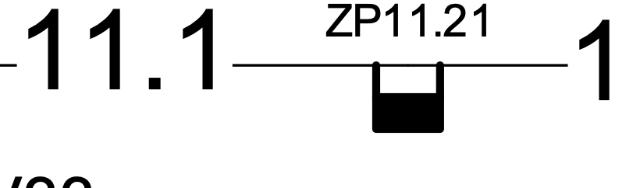radzaehler: (357, 47, 457, 145)
tracknumber: (6, 2, 248, 100)
